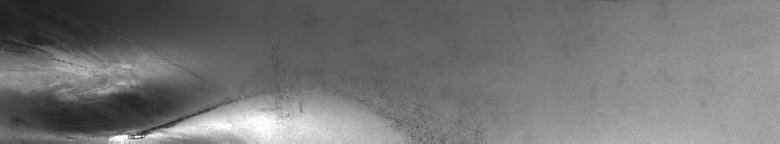ke: (4, 32, 462, 136)
